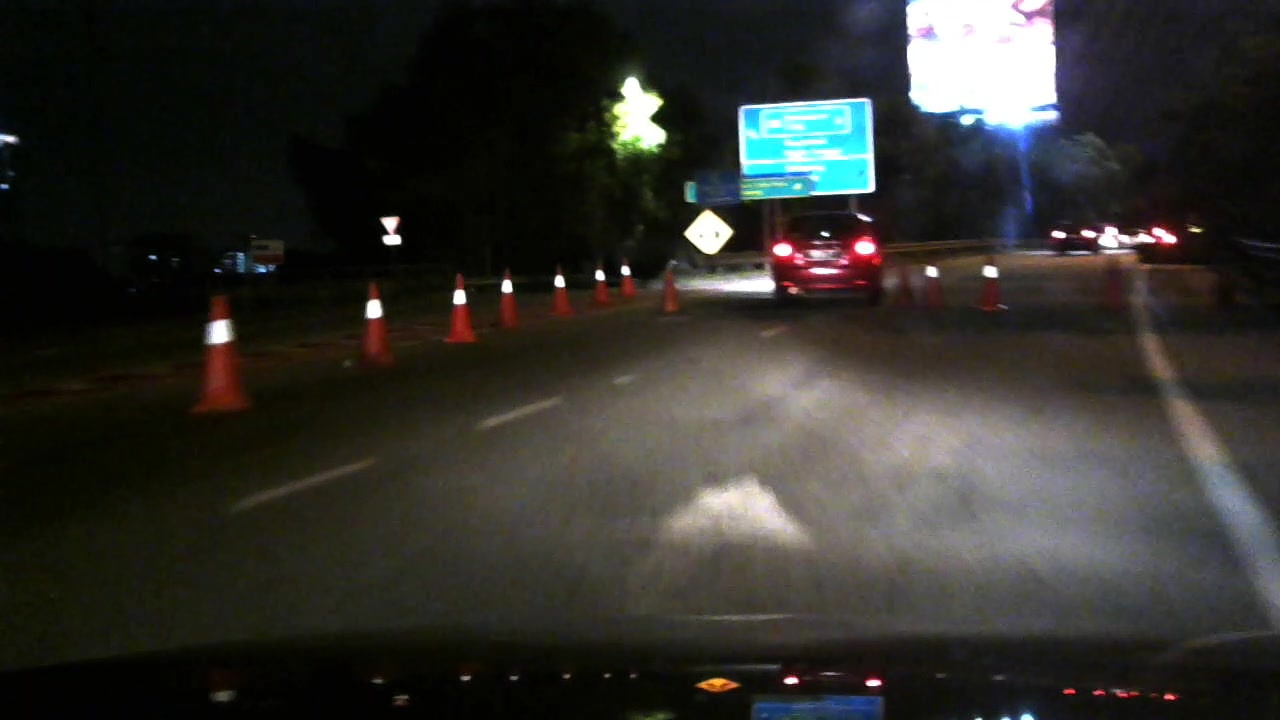Car: (766, 199, 893, 319), (1030, 212, 1116, 258)
